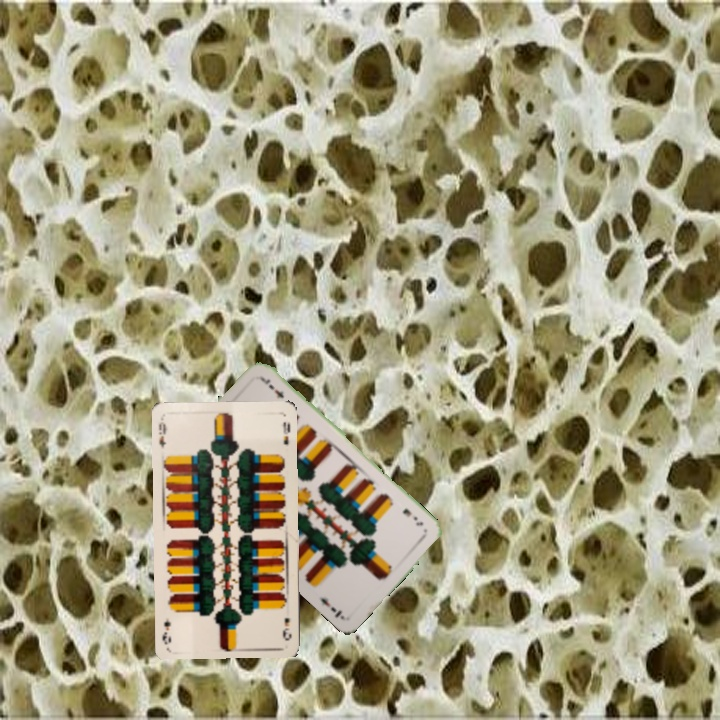E7: (398, 504, 426, 529)
E9: (155, 416, 168, 451), (279, 614, 294, 643)
